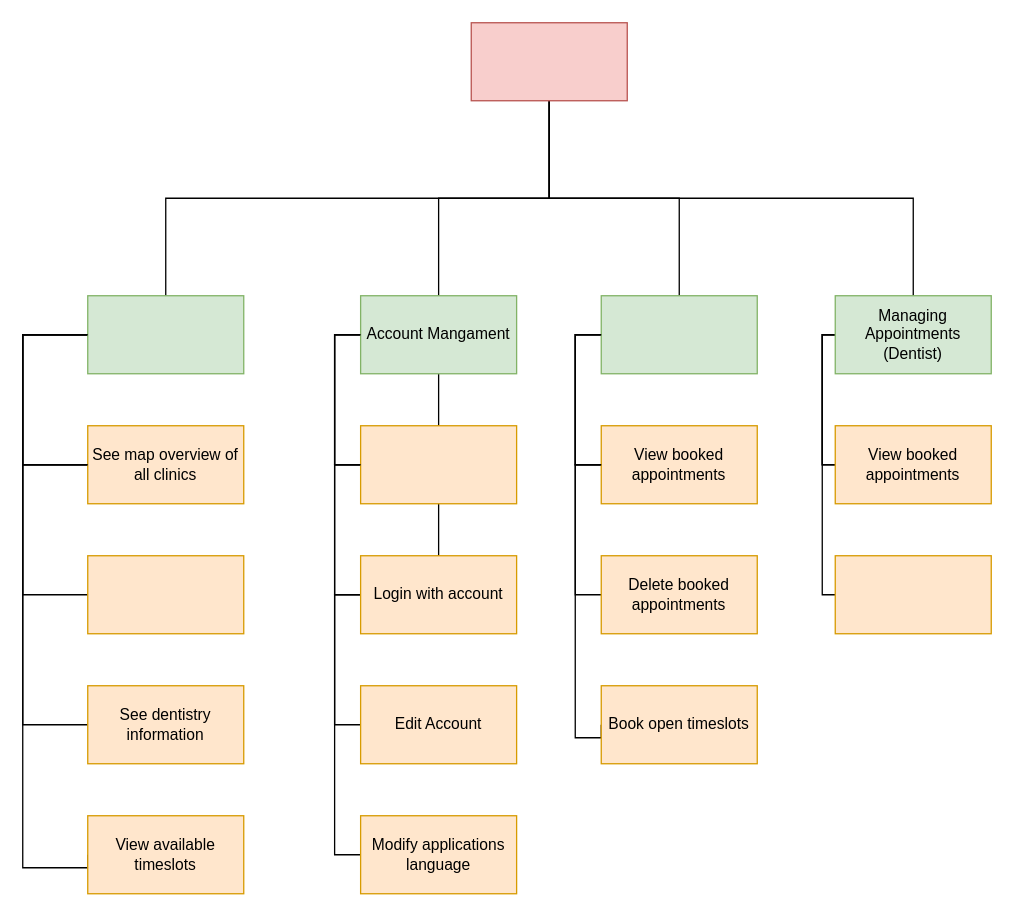
This 1014x916 diagram has some shape labels left out. The shapes that lost their labels are listed below. From the top down, each one's box as (x1, y1, x2, y2) in pixels, then its label:
(470, 21, 627, 101): Dentist Registry System
(86, 294, 244, 374): GUI
(600, 294, 757, 374): Managing Appointments (User)
(359, 424, 517, 504): Register an account
(86, 554, 244, 634): Select clinics
(834, 554, 991, 634): Cancel booked appointments
